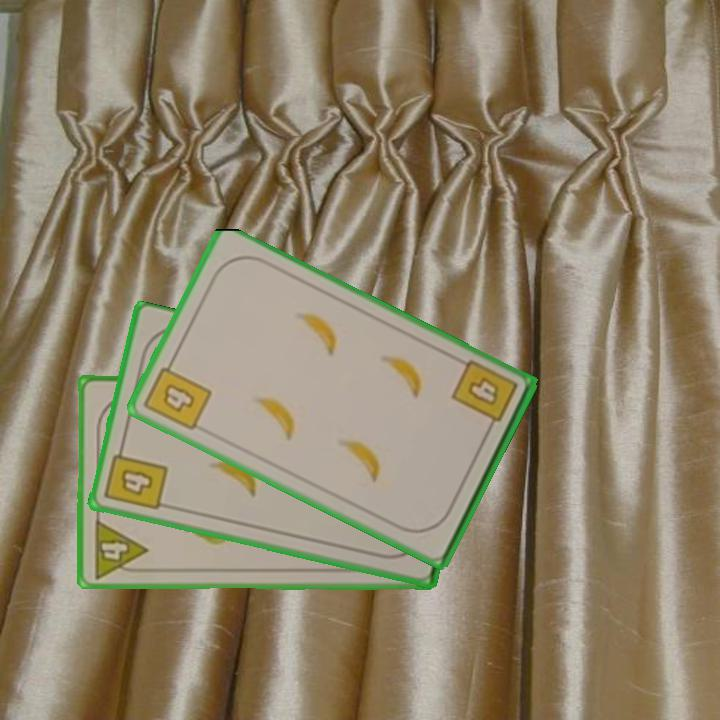4b: (140, 354, 215, 434), (447, 356, 521, 436), (101, 441, 171, 513)
4p: (90, 516, 150, 581)
